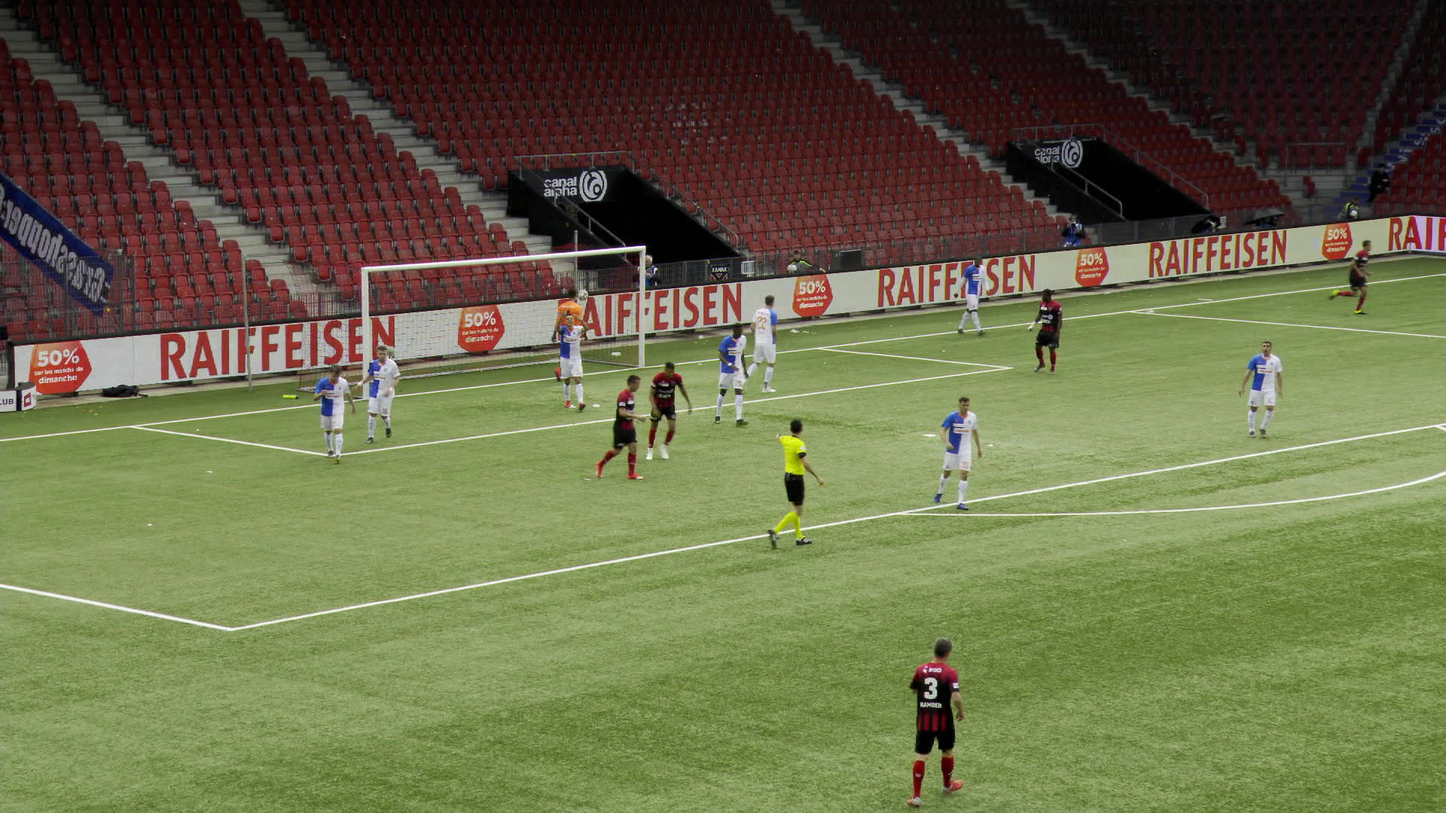ball: (578, 289, 587, 298)
player: (905, 638, 966, 808), (932, 394, 979, 510), (594, 373, 641, 480), (638, 363, 688, 461), (354, 344, 401, 443), (312, 364, 356, 464), (1240, 342, 1283, 440), (712, 321, 746, 425), (743, 294, 776, 393), (1025, 289, 1061, 374), (1330, 240, 1371, 314), (556, 310, 584, 411), (552, 286, 581, 379), (955, 254, 985, 336)
referee: (767, 419, 821, 549)
